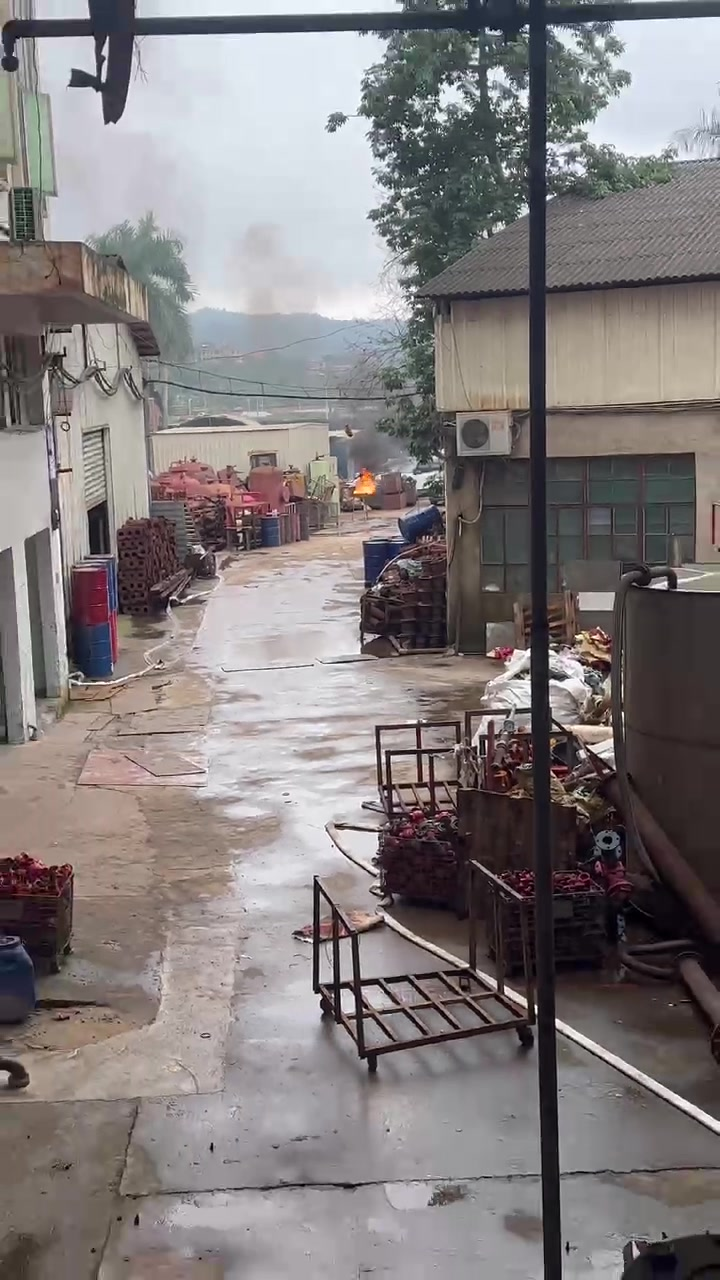fire: (353, 467, 376, 494)
